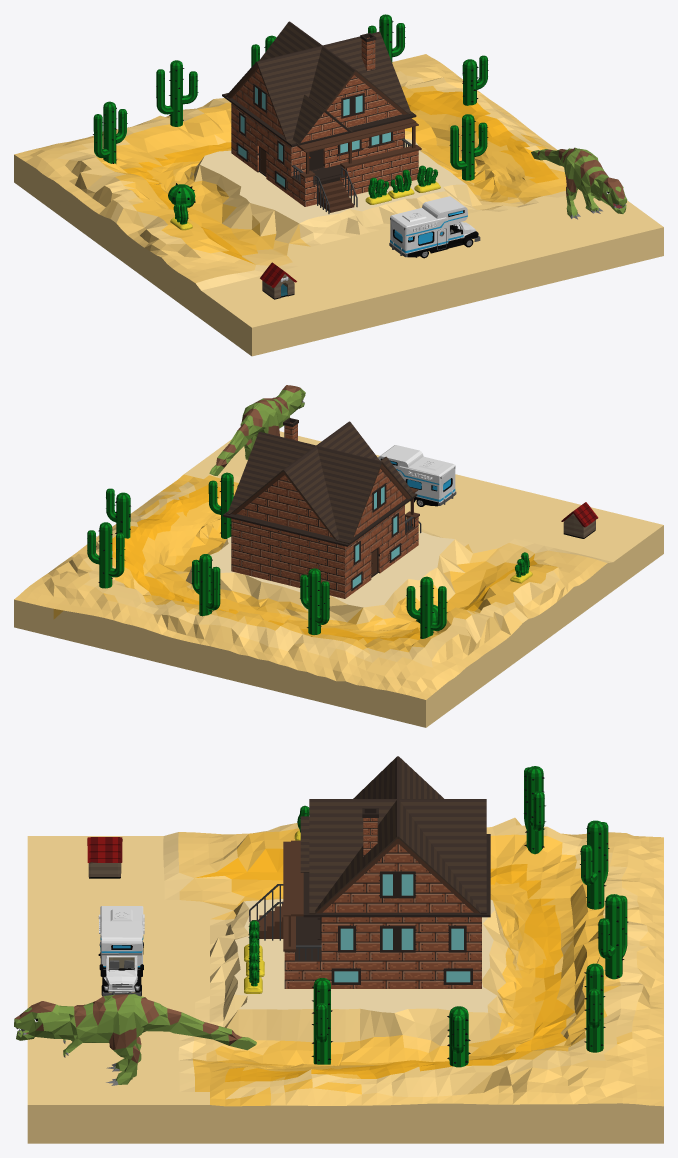
3 views of the same model, one above another, from view 1: azimuth 30°, elevation 25°; view 2: azimuth 150°, elevation 25°; view 3: azimuth 270°, elevation 25° (orthographic). The views are drawn at different scales.
Parts seen in each view (by area): view 1: Cube.001, Cube.469, VEHICLES_CAMPER, ANIMAL_TREX, Cylinder.044, Cylinder.037, Cylinder.045, Cylinder.038, OBJRANDOM_DOGHOUSE, Cylinder.042, Cylinder.039, Cylinder.041 (+1 smaller); view 2: Cube.001, Cube.469, ANIMAL_TREX, VEHICLES_CAMPER, Cylinder.042, Cylinder.045, Cylinder.044, Cylinder.043, Cylinder.037, Cylinder.038, OBJRANDOM_DOGHOUSE; view 3: Cube.001, Cube.469, ANIMAL_TREX, VEHICLES_CAMPER, Cylinder.043, Cylinder.044, Cylinder.045, Cylinder.042, Cylinder.037, OBJRANDOM_DOGHOUSE, Cylinder.038, Cylinder.041.
Part boxes in pixels (x1,y1,x2,y2): Cube.001: (14,54,663,356); Cube.469: (222,21,421,213); VEHICLES_CAMPER: (389,196,480,258); ANIMAL_TREX: (531,147,627,219); Cylinder.044: (156,60,198,126); Cylinder.037: (449,114,488,180); Cylinder.045: (93,101,127,163); Cylinder.038: (462,55,488,105); OBJRANDOM_DOGHOUSE: (260,262,296,299); Cylinder.042: (368,14,405,62); Cylinder.039: (365,177,391,204); Cylinder.041: (414,165,440,192); Cube.001: (14,431,663,727); Cube.469: (223,417,421,598); ANIMAL_TREX: (209,385,305,475); VEHICLES_CAMPER: (378,445,456,506); Cylinder.042: (87,522,125,588); Cylinder.045: (406,576,447,638); Cylinder.044: (300,568,329,634); Cylinder.043: (191,554,220,616); Cylinder.037: (208,472,238,538); Cylinder.038: (106,488,130,538); OBJRANDOM_DOGHOUSE: (561,502,598,538); Cube.001: (27,817,663,1143); Cube.469: (249,756,490,988); ANIMAL_TREX: (14,994,256,1085); VEHICLES_CAMPER: (98,906,144,996); Cylinder.043: (597,894,628,979); Cylinder.044: (580,820,609,909); Cylinder.045: (524,766,545,854); Cylinder.042: (584,963,605,1052); Cylinder.037: (311,978,332,1064); OBJRANDOM_DOGHOUSE: (87,837,122,878); Cylinder.038: (447,1006,470,1067); Cylinder.041: (244,952,262,993).
Size of the model in its own units: 4002 by 1728 by 4088.
Materials: 35 (3 with a texture image).
